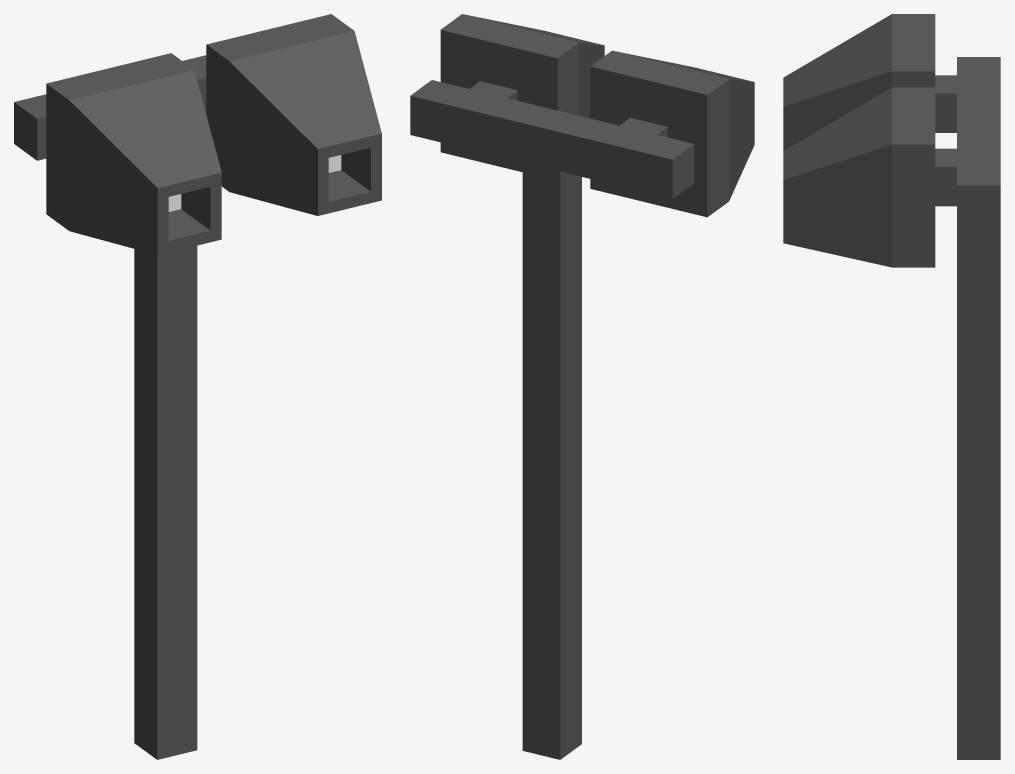
Rendered from Decorations_Lamp.fbx.
3 views of the same model, side by side, from view 1: azimuth 30°, elevation 25°; view 2: azimuth 150°, elevation 25°; view 3: azimuth 270°, elevation 25° (orthographic). The views are drawn at different scales.
Parts seen in each view (by area): view 1: Lamp; view 2: Lamp; view 3: Lamp.
Part boxes in pixels (x1,y1,x2,y2): Lamp: (14, 14, 381, 759); Lamp: (410, 14, 754, 759); Lamp: (783, 14, 1000, 759).
Bounding box in the file's own units: 1424 × 3412 × 1000.
1 material, 1 textured.
